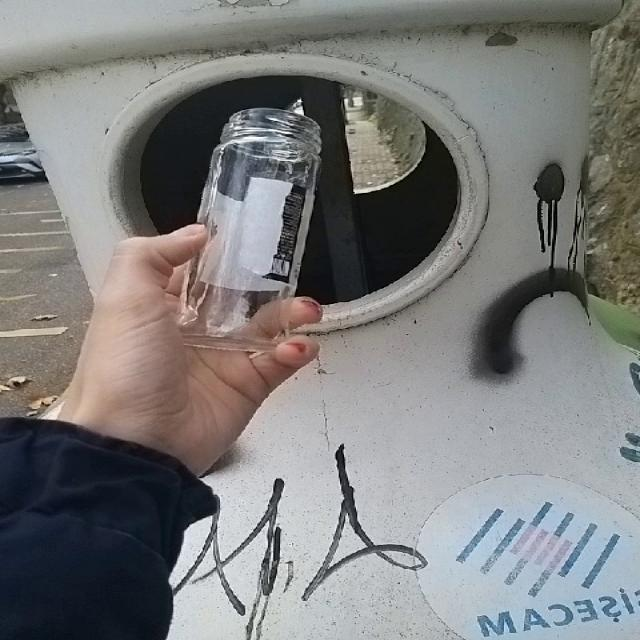glass: (177, 108, 320, 352)
